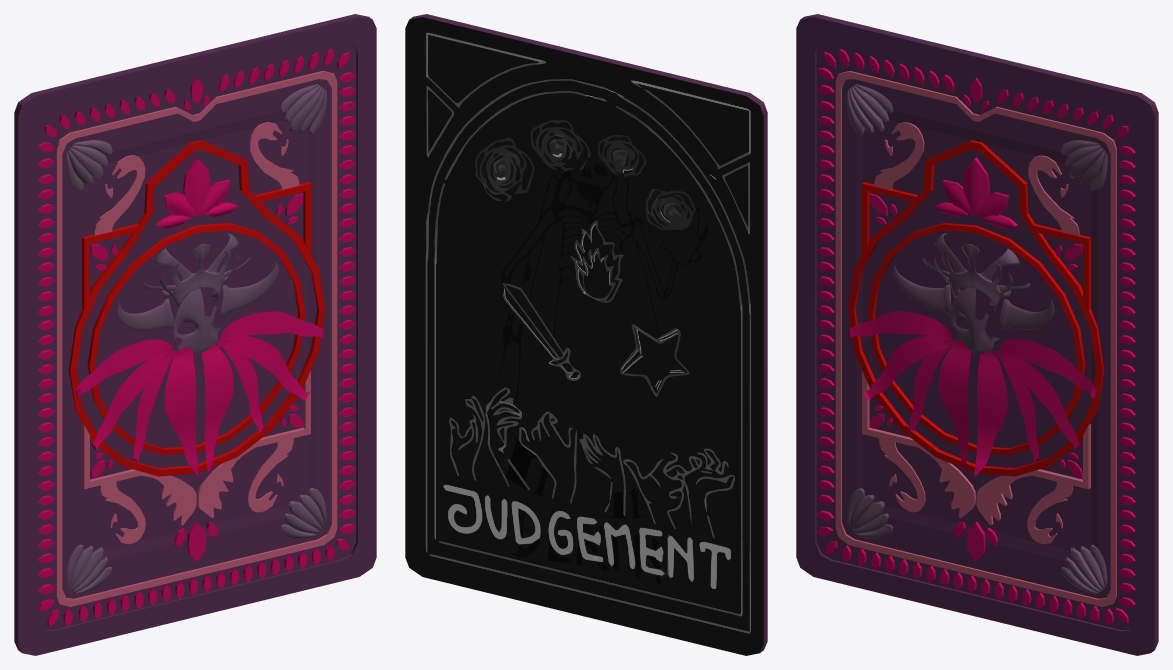
File: Mesh Judgement.fbx
3 views of the same model, side by side, from view 1: azimuth 30°, elevation 25°; view 2: azimuth 150°, elevation 25°; view 3: azimuth 330°, elevation 25° (orthographic).
Visible parts, largest first — view 1: Death2; view 2: Death2; view 3: Death2.
Boxes of the visible parts, x1,y1,x2,y2 form: Death2: [14, 14, 376, 655]; Death2: [405, 14, 767, 655]; Death2: [796, 14, 1158, 655].
Bounding box in the file's own units: 321 × 479 × 15.55.
